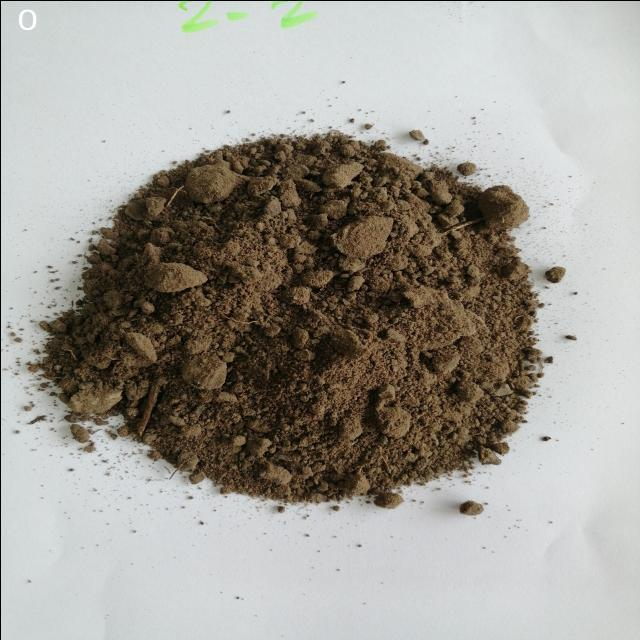soil: (168, 176, 454, 440)
